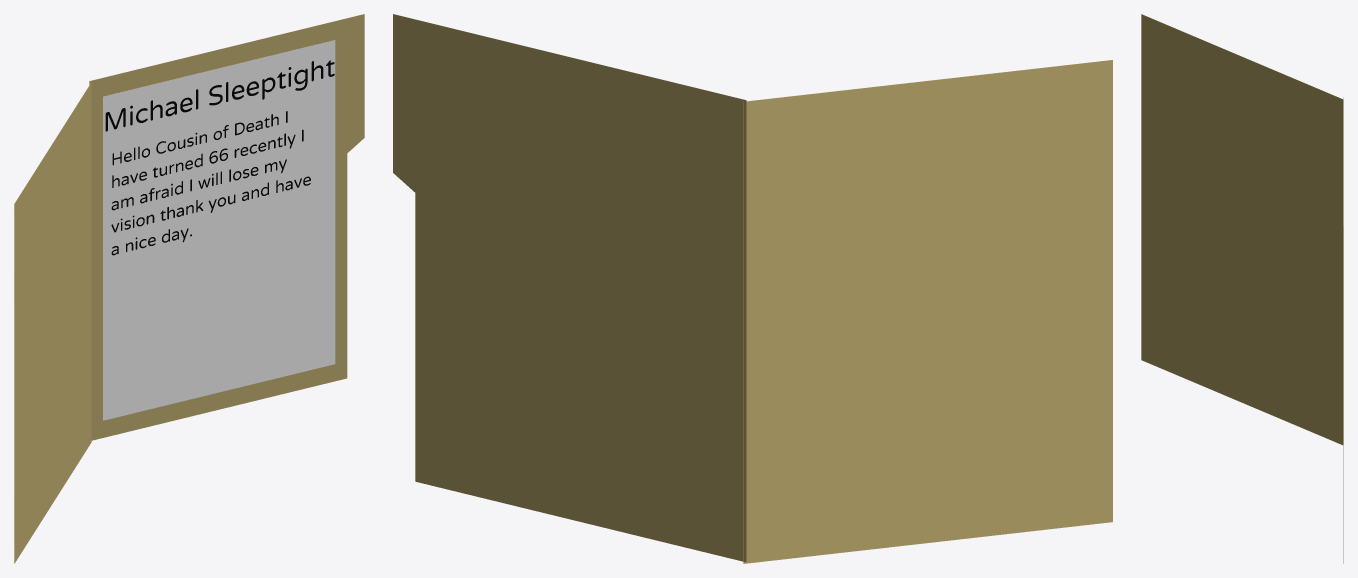
File: folder_three.fbx
3 renders of one model, left to right at view 1: azimuth 30°, elevation 25°; view 2: azimuth 150°, elevation 25°; view 3: azimuth 270°, elevation 25°, orthographic. The views are drawn at different scales.
Parts seen in each view (by area): view 1: Text.001; view 2: Text.001; view 3: Text.001.
Part boxes in pixels (x1=…): Text.001: x1=14, y1=14, x2=364, y2=563; Text.001: x1=393, y1=14, x2=1112, y2=563; Text.001: x1=1141, y1=14, x2=1343, y2=563.
Bounding box in the file's own units: 265 × 201 × 106.
